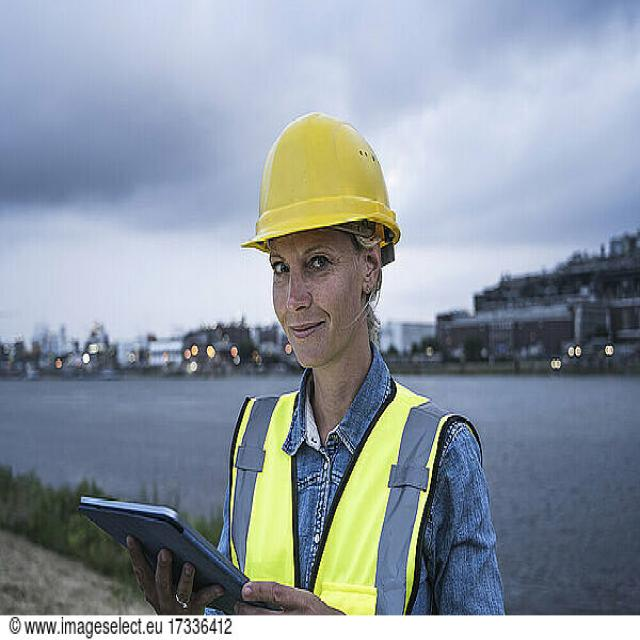Reflective-Jacket: (225, 371, 477, 615)
Safety-Helmet: (239, 105, 404, 257)
